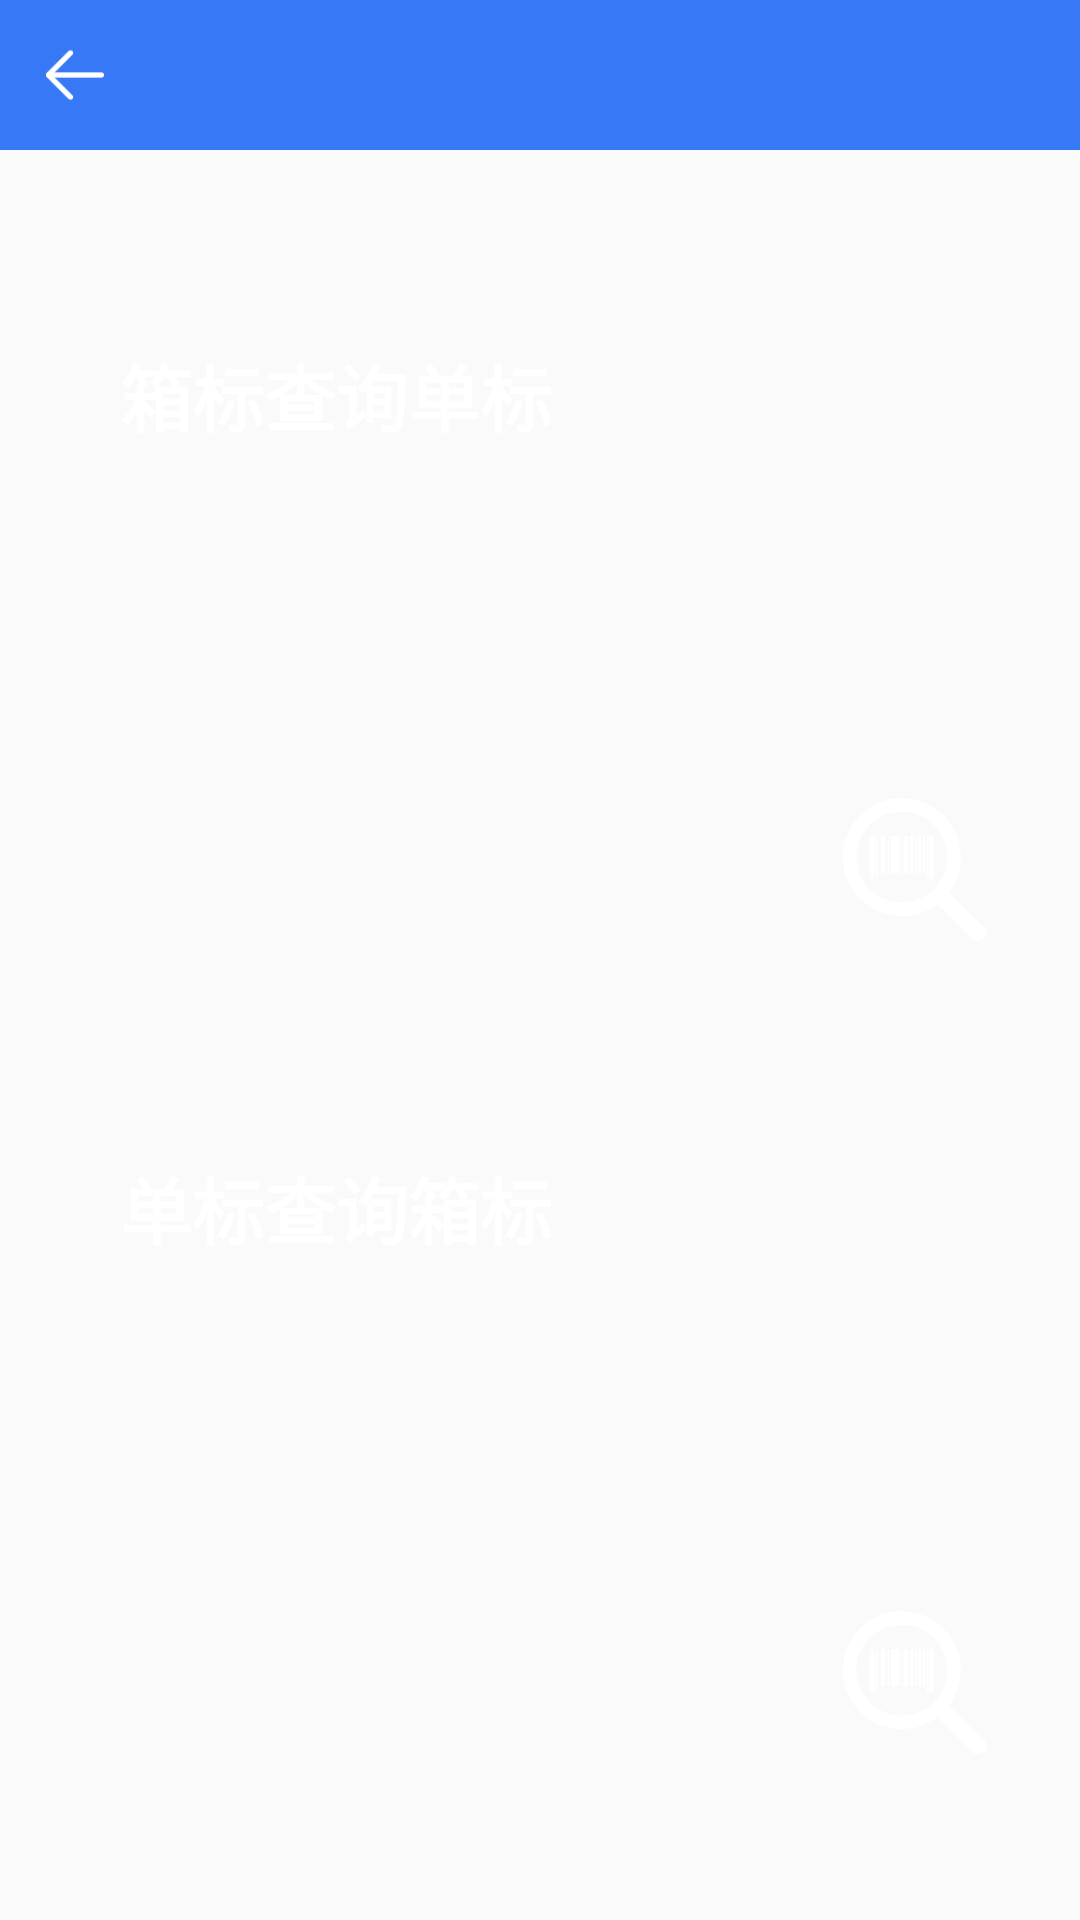

Locate icon controls on the screen. Image size 1080 x 1920, boxes as bbox=(x1, y1, x2, y2).
arrow back: bbox=(46, 50, 104, 100)
